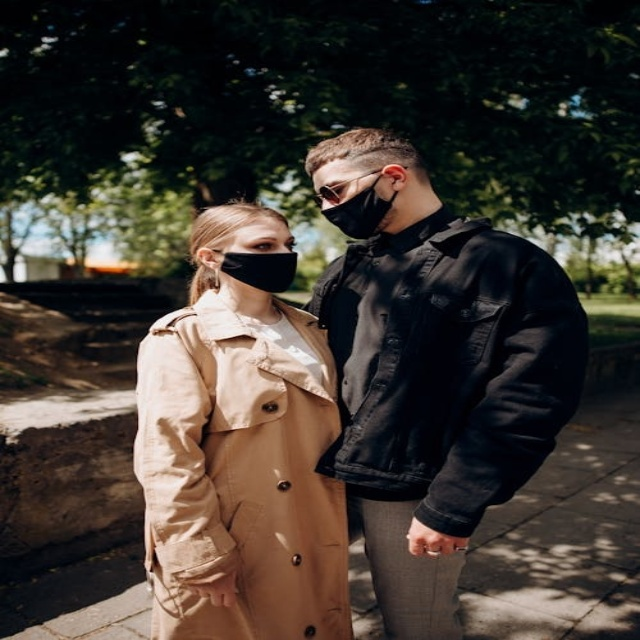Gafas: (312, 166, 405, 208)
Mascara: (317, 172, 399, 238), (212, 250, 298, 293)
Sin_gafas: (232, 233, 301, 249)
Sin_guantes: (401, 512, 480, 561)
